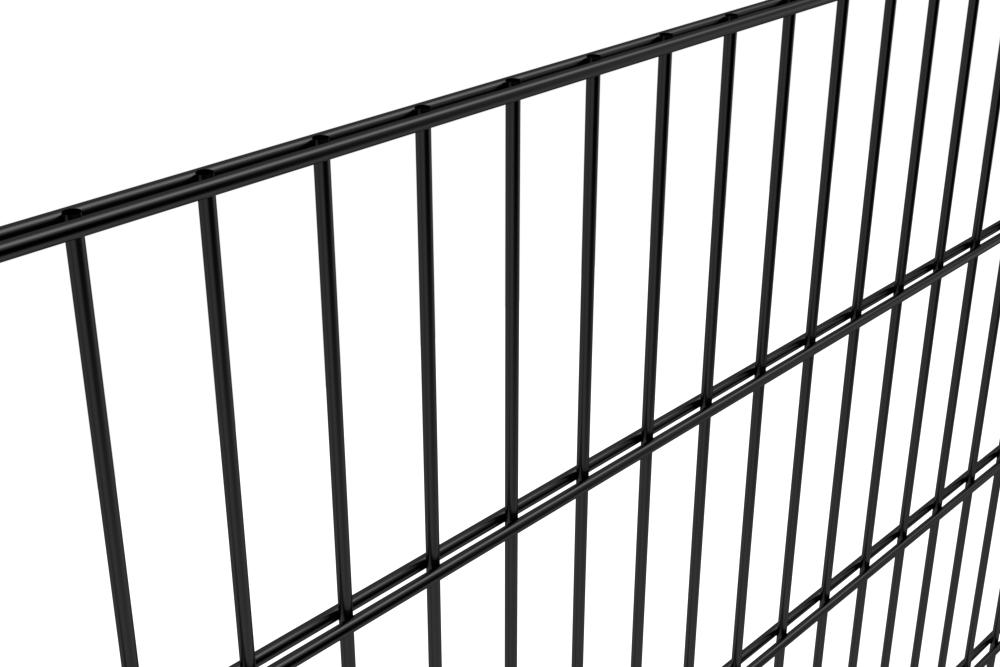obstacle: (0, 104, 1000, 662)
